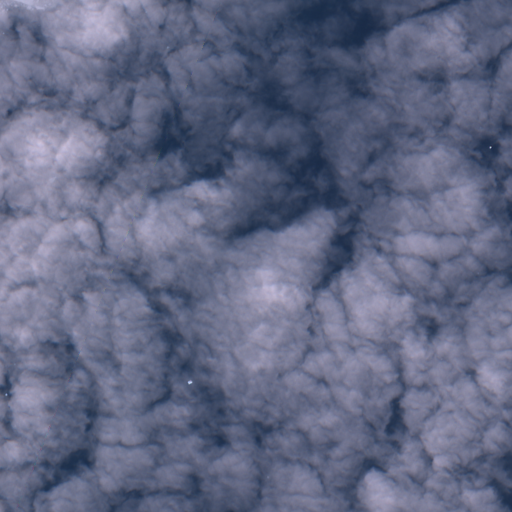Iceberg: (188, 380, 192, 384), (489, 146, 491, 148), (5, 393, 7, 395)
